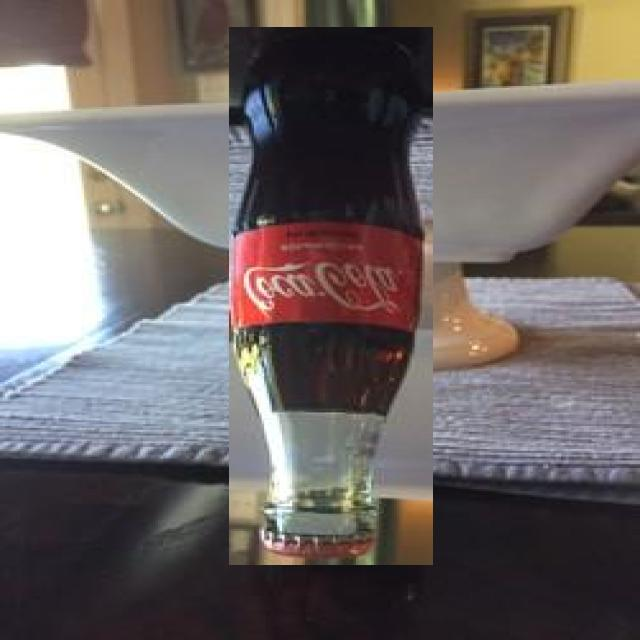coca-cola: (230, 27, 433, 565)
